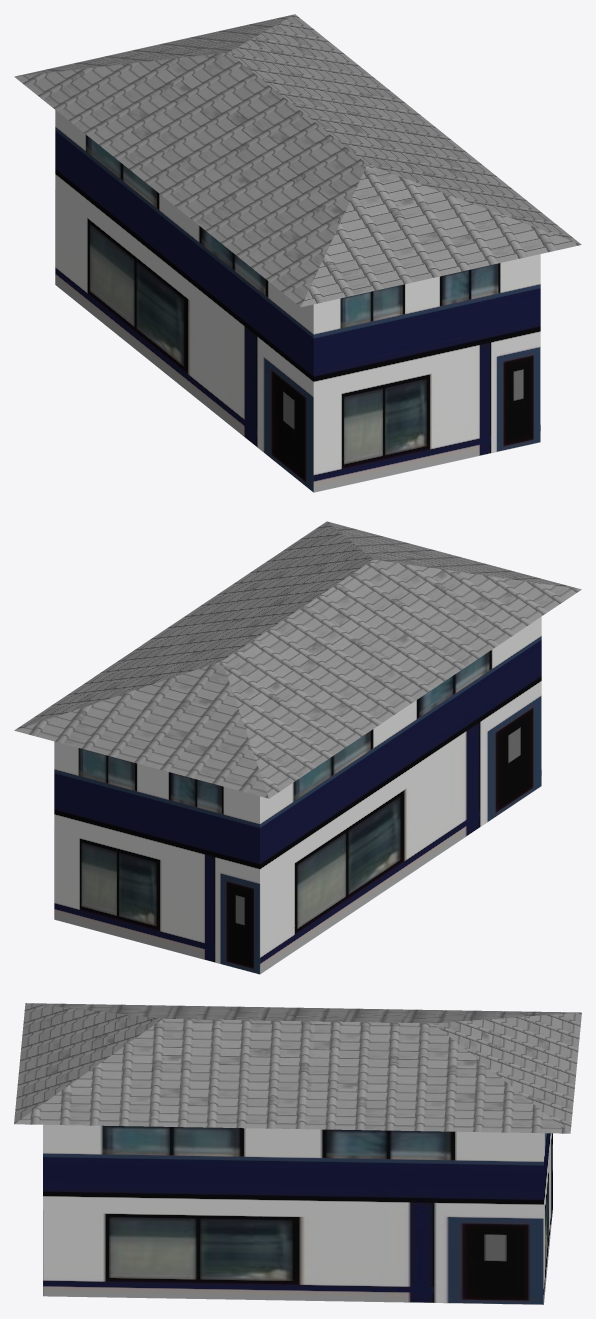
3 views of the same model, one above another, from view 1: azimuth 30°, elevation 25°; view 2: azimuth 150°, elevation 25°; view 3: azimuth 270°, elevation 25° (orthographic). The views are drawn at different scales.
Visible parts, largest first — view 1: CityEngineMaterial_2_m, CityEngineMaterial_4_m; view 2: CityEngineMaterial_2_m, CityEngineMaterial_4_m; view 3: CityEngineMaterial_2_m, CityEngineMaterial_4_m.
Boxes of the visible parts, x1,y1,x2,y2 form: CityEngineMaterial_2_m: (55, 110, 540, 492); CityEngineMaterial_4_m: (14, 14, 581, 307); CityEngineMaterial_2_m: (54, 616, 541, 974); CityEngineMaterial_4_m: (14, 521, 581, 798); CityEngineMaterial_2_m: (43, 1124, 552, 1304); CityEngineMaterial_4_m: (14, 1003, 581, 1133).
Size of the model in its own units: 10.46 by 8.62 by 19.23.
